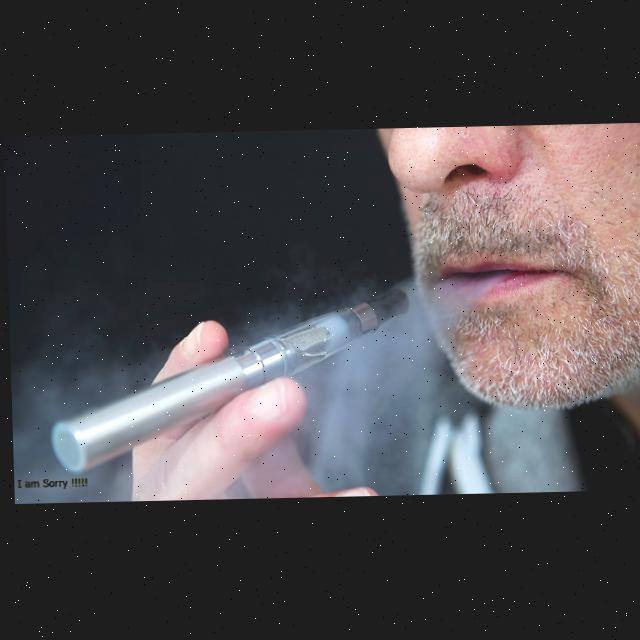vape: (43, 286, 413, 476)
